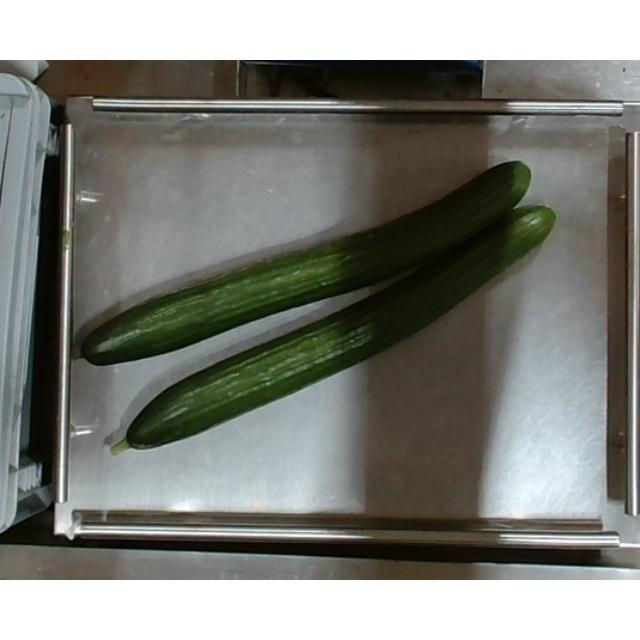cucumber: (111, 203, 557, 457), (72, 162, 532, 374)
